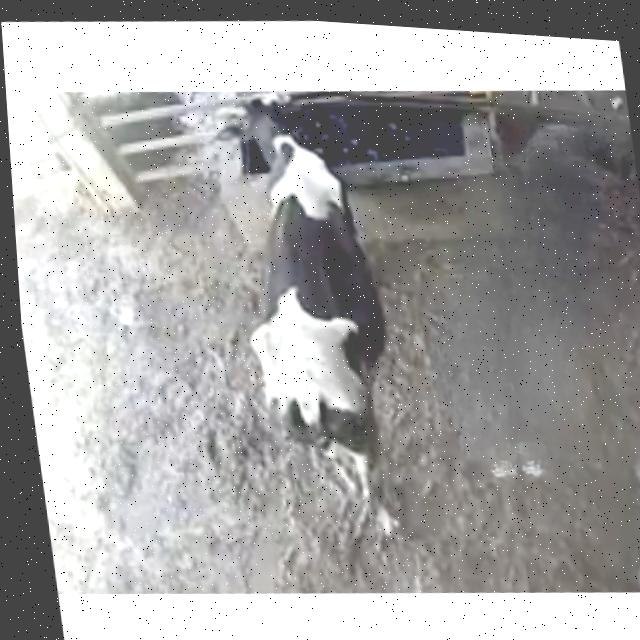drink: (205, 79, 381, 256)
